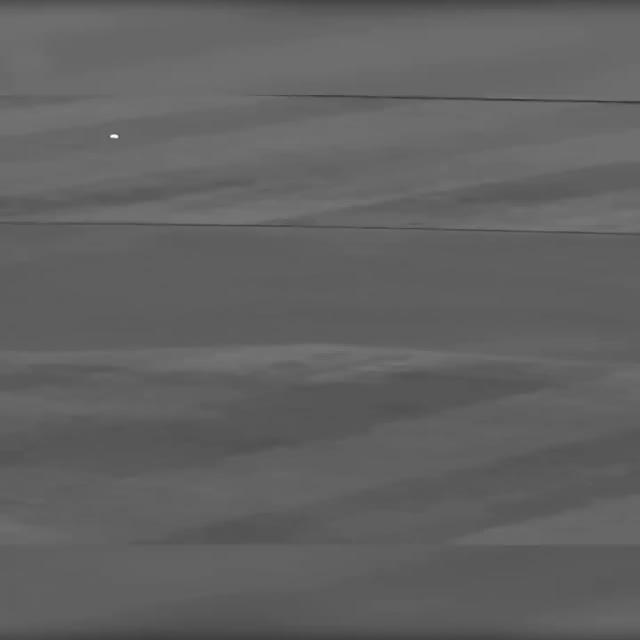baseball: (109, 133, 119, 139)
